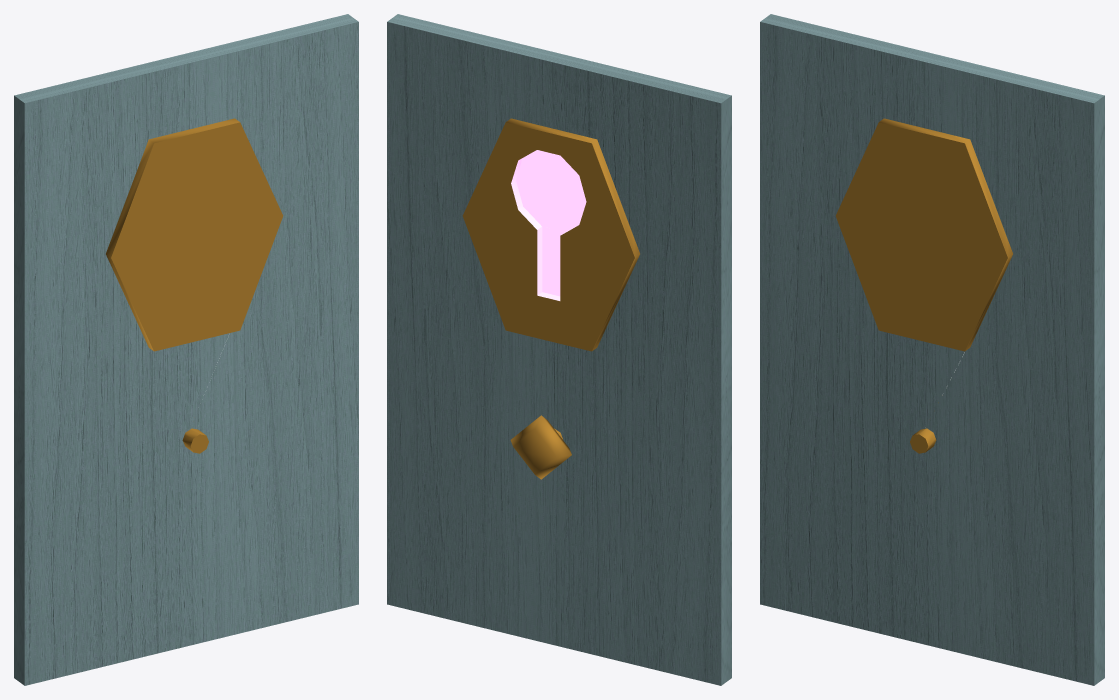
File: door.gltf
3 renders of one model, left to right at view 1: azimuth 30°, elevation 25°; view 2: azimuth 150°, elevation 25°; view 3: azimuth 330°, elevation 25°, orthographic.
Visible parts, largest first — view 1: CSGBox3D2; view 2: CSGBox3D2; view 3: CSGBox3D2.
Part boxes in pixels (x1=…): CSGBox3D2: x1=14, y1=14, x2=358, y2=685; CSGBox3D2: x1=387, y1=14, x2=731, y2=685; CSGBox3D2: x1=760, y1=14, x2=1104, y2=685.
Bounding box in the file's own units: 1.8 × 3 × 0.378.
Materials: 4 (1 with a texture image).
